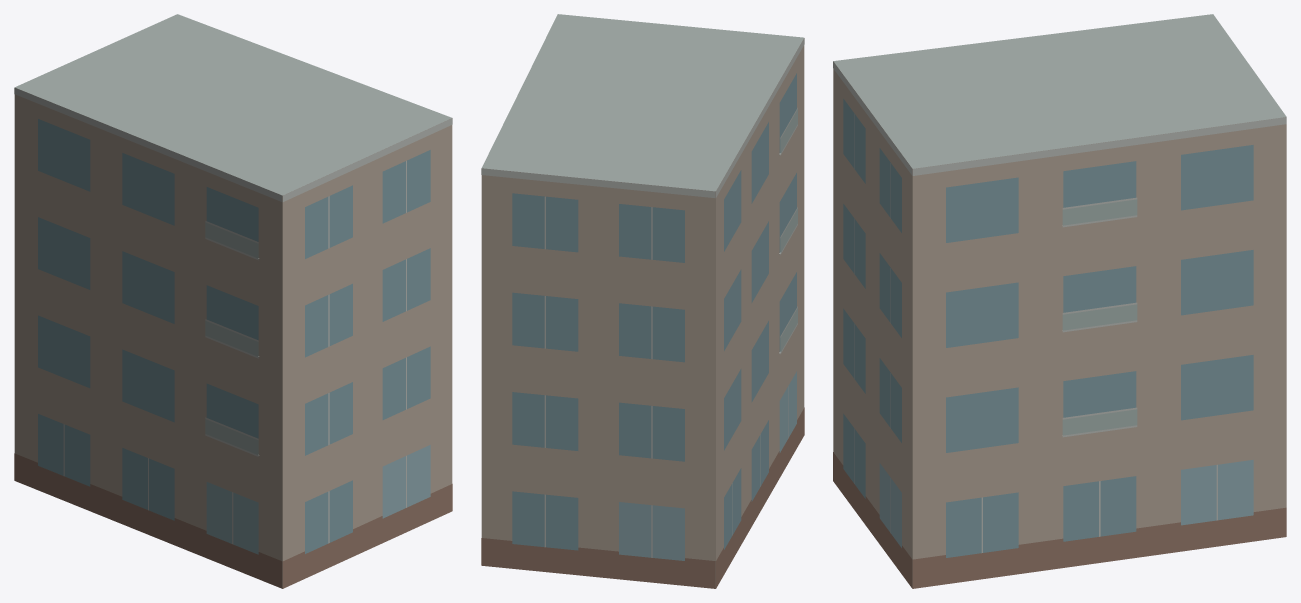
The model's file is survey-upis-32863977.glb.
The picture shows the model from 3 angles, left to right: view 1: azimuth 30°, elevation 25°; view 2: azimuth 150°, elevation 25°; view 3: azimuth 270°, elevation 25°; orthographic projection. The views are drawn at different scales.
Parts seen in each view (by area): view 1: survey-upis-32863977.tmp; view 2: survey-upis-32863977.tmp; view 3: survey-upis-32863977.tmp.
Boxes of the visible parts, box(x1,y1,x2,y2) form: survey-upis-32863977.tmp: box(14, 14, 452, 588); survey-upis-32863977.tmp: box(481, 14, 804, 588); survey-upis-32863977.tmp: box(833, 14, 1286, 588).
Size of the model in its own units: 11.26 by 14.22 by 13.93.
